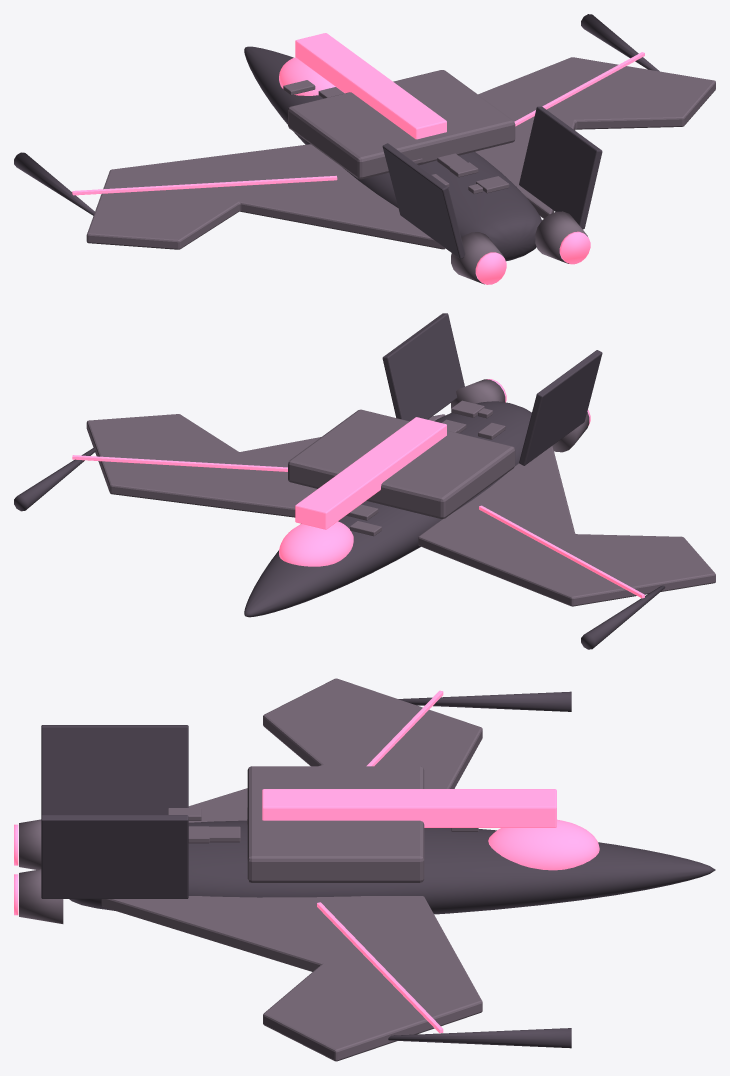
Rendered from elite.glb.
3 renders of one model, top to bottom at view 1: azimuth 30°, elevation 25°; view 2: azimuth 150°, elevation 25°; view 3: azimuth 270°, elevation 25°, orthographic. The views are drawn at different scales.
Parts seen in each view (by area): view 1: sickle, armor, body, fin.001, armor2, fin, exhaust.001, edge, exhaust, spike, eye, spike.001 (+3 smaller); view 2: sickle, armor, body, armor2, fin.001, fin, eye, edge.001, spike, spike.001, edge, exhaust.001; view 3: sickle, body, armor, fin, fin.001, armor2, eye, spike.001, spike, exhaust.001, edge.001, exhaust (+1 smaller).
Part boxes in pixels (left/top/right/bottom): sickle: left=86, top=57, right=715, bottom=249; armor: left=288, top=70, right=515, bottom=179; body: left=244, top=46, right=541, bottom=261; fin.001: left=519, top=106, right=602, bottom=229; armor2: left=295, top=33, right=446, bottom=139; fin: left=382, top=143, right=465, bottom=259; exhaust.001: left=535, top=211, right=587, bottom=263; edge: left=72, top=175, right=337, bottom=195; exhaust: left=451, top=232, right=503, bottom=284; spike: left=14, top=152, right=94, bottom=215; eye: left=279, top=57, right=335, bottom=95; spike.001: left=581, top=14, right=659, bottom=71; sickle: left=86, top=414, right=715, bottom=606; armor: left=288, top=409, right=515, bottom=518; body: left=244, top=401, right=531, bottom=617; armor2: left=295, top=417, right=446, bottom=529; fin.001: left=382, top=313, right=464, bottom=421; fin: left=519, top=350, right=602, bottom=465; eye: left=279, top=521, right=353, bottom=566; edge.001: left=72, top=455, right=287, bottom=471; spike: left=581, top=585, right=665, bottom=649; spike.001: left=14, top=447, right=95, bottom=511; edge: left=479, top=505, right=644, bottom=598; exhaust.001: left=451, top=379, right=505, bottom=408; sickle: left=101, top=678, right=482, bottom=1061; body: left=69, top=820, right=715, bottom=914; armor: left=247, top=766, right=424, bottom=882; fin: left=41, top=725, right=188, bottom=815; fin.001: left=41, top=815, right=188, bottom=898; armor2: left=262, top=789, right=556, bottom=827; eye: left=488, top=819, right=599, bottom=870; spike.001: left=388, top=1028, right=571, bottom=1048; spike: left=398, top=691, right=571, bottom=711; exhaust.001: left=19, top=869, right=63, bottom=923; edge.001: left=317, top=902, right=443, bottom=1033; exhaust: left=19, top=819, right=41, bottom=869.
Bounding box in the file's own units: 5.99 × 1 × 4.76.
